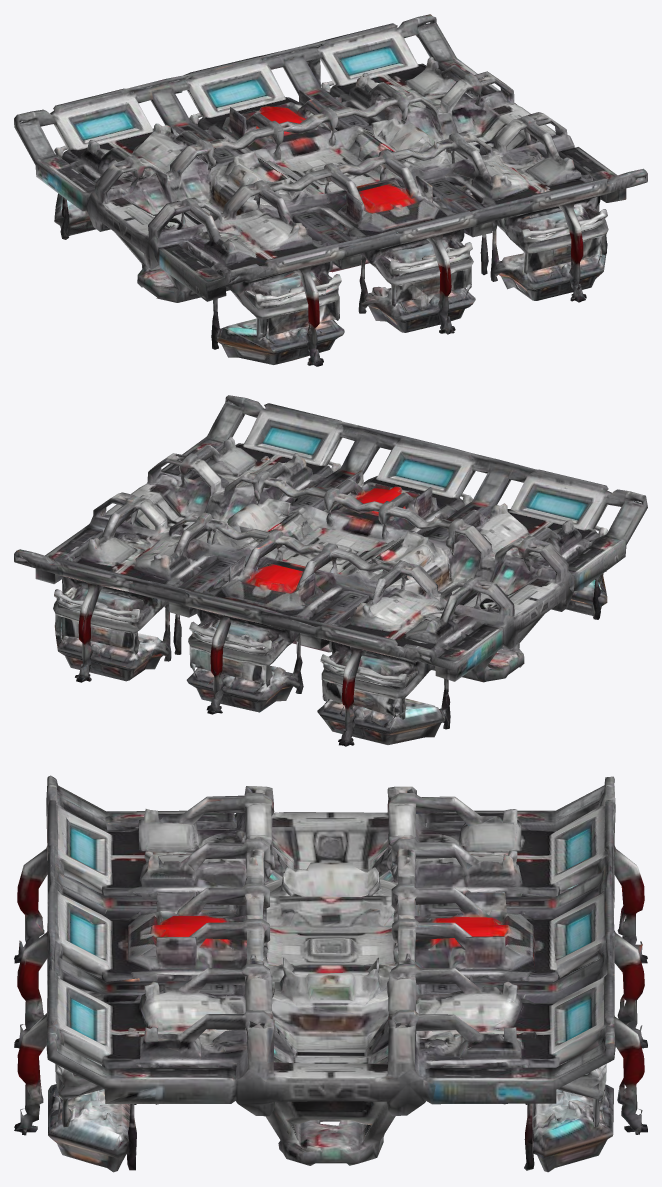
File: station_trade_hub.repacked.glb
3 views of the same model, one above another, from view 1: azimuth 30°, elevation 25°; view 2: azimuth 150°, elevation 25°; view 3: azimuth 270°, elevation 25° (orthographic). The views are drawn at different scales.
Parts seen in each view (by area): view 1: Mesh1.0; view 2: Mesh1.0; view 3: Mesh1.0.
Part boxes in pixels (x1,y1,x2,y2): Mesh1.0: [14, 14, 647, 366]; Mesh1.0: [14, 395, 647, 746]; Mesh1.0: [14, 775, 647, 1172].
Size of the model in its own units: 1.91 by 0.4978 by 1.89.
1 material, 1 textured.
